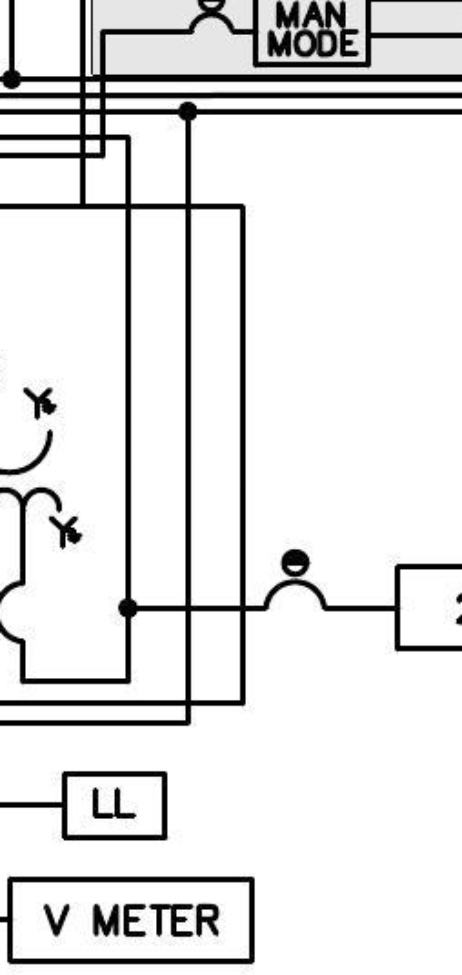LL: (61, 769, 169, 843)
v_m_digital: (5, 875, 256, 966)
